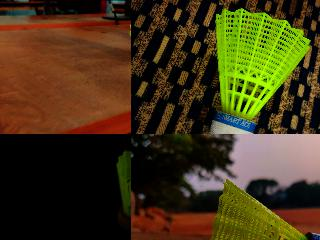shuttlecock: (210, 8, 311, 133), (199, 179, 319, 239), (114, 147, 130, 231)
